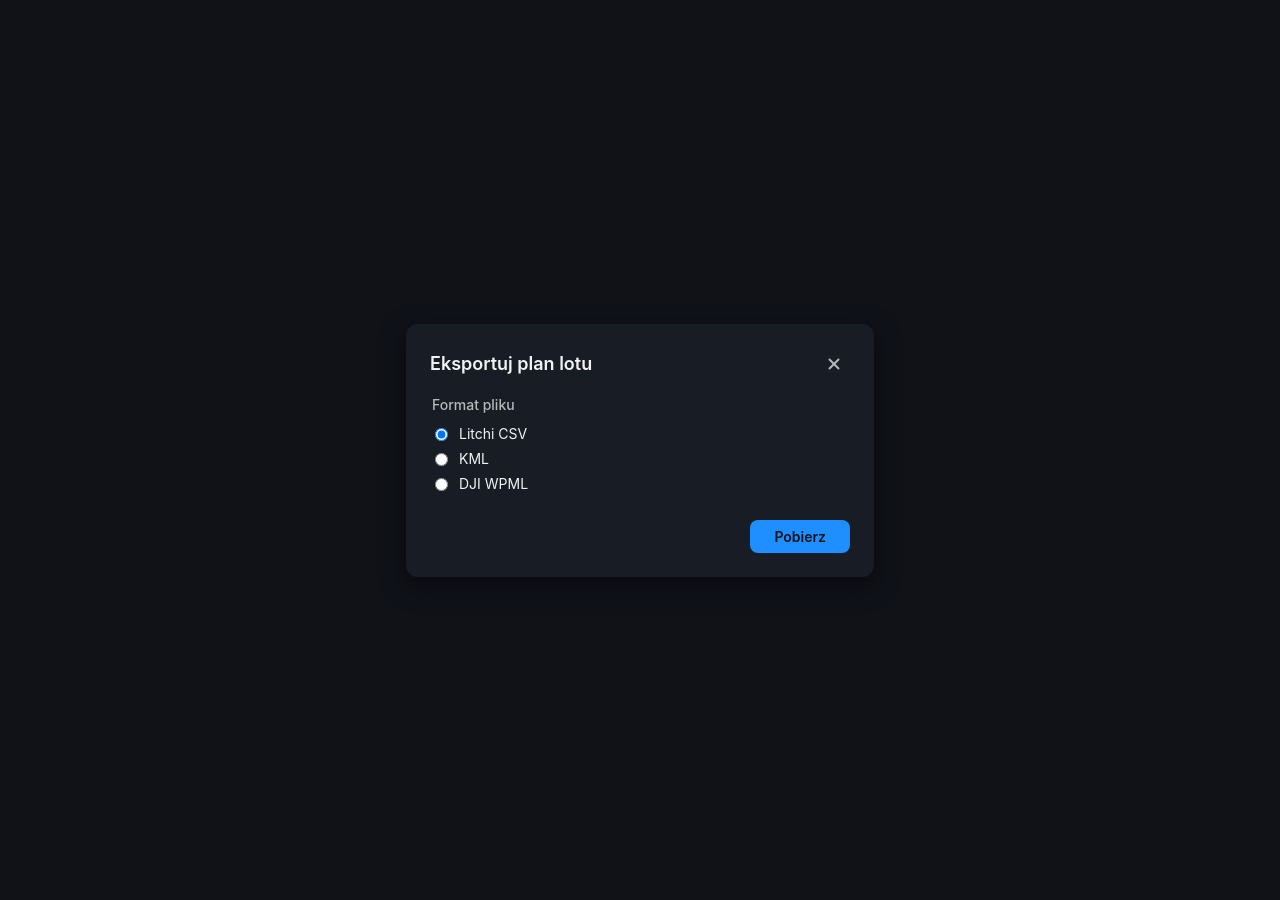
it: ExportDialogComponent › error handling › should show inline error on HTTP 422 failure
Step 1. Click the button with class "export-dialog__download-btn" → (800, 536), box [750,520,850,552]
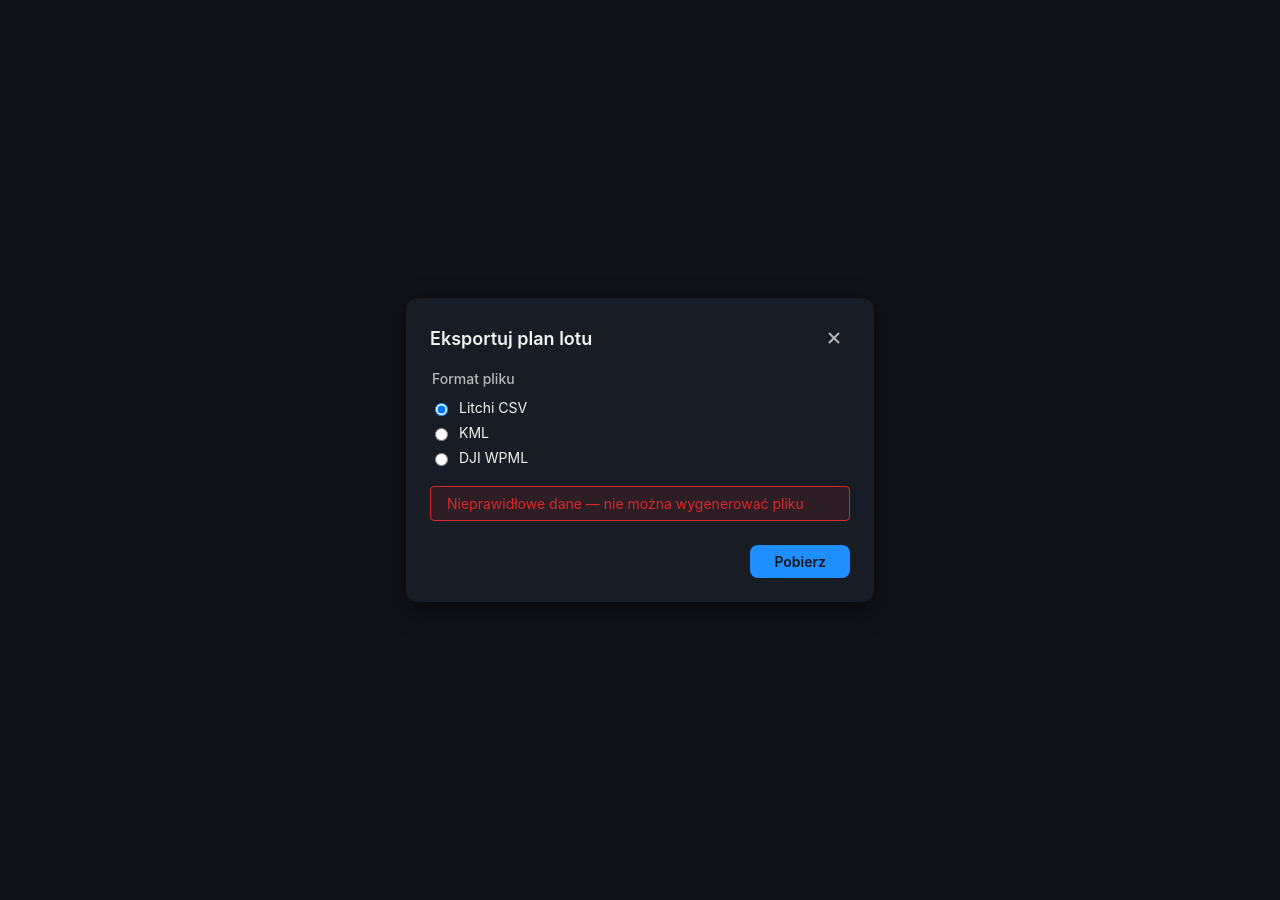
Expected: the message "Nieprawidłowe dane — nie można wygenerować pliku" is shown, [430,486,850,521]
Expected: the message with class "export-dialog__error" shows "Nieprawidłowe dane", [447,495,804,512]
